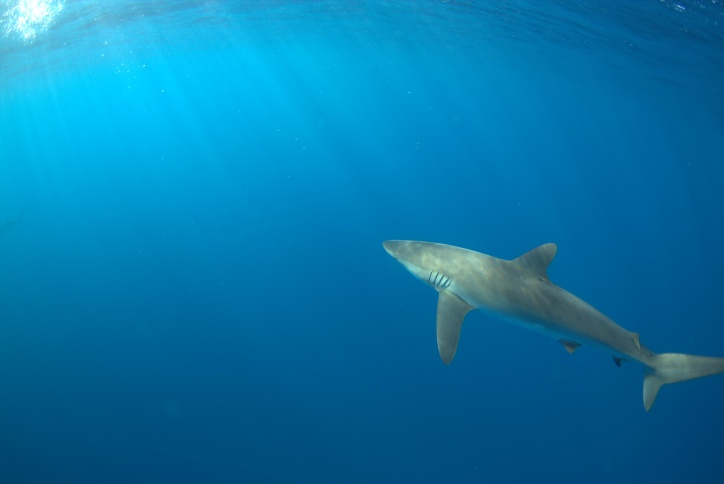Sedoso: (366, 219, 724, 417)
